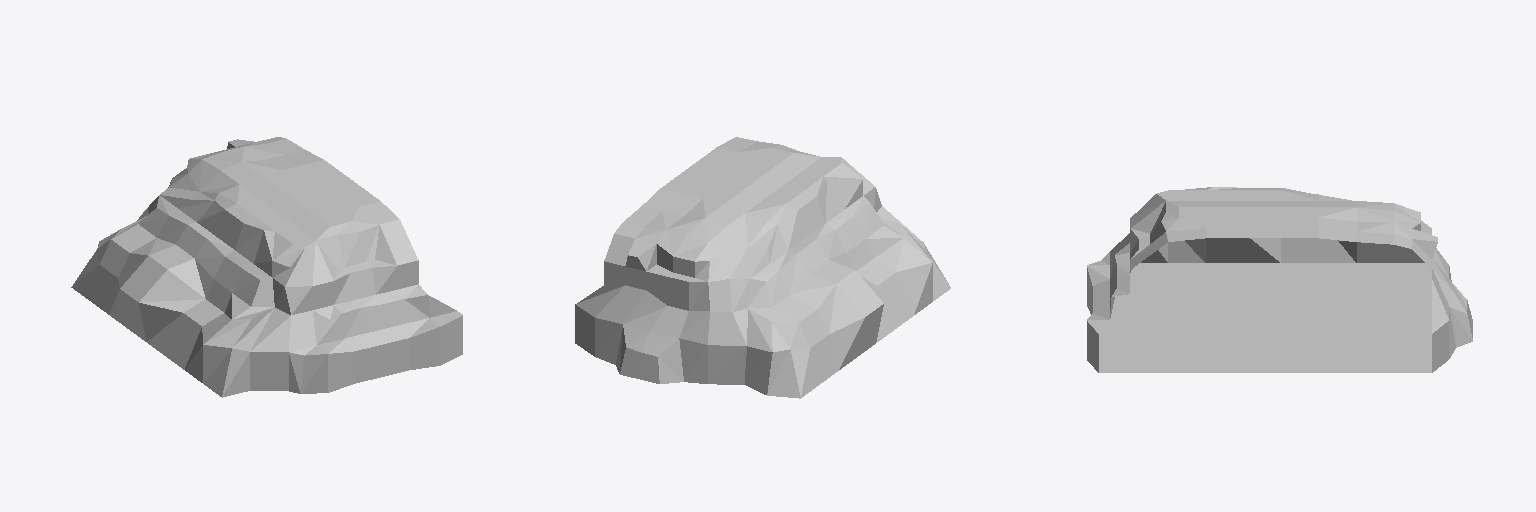
The model's file is mMountainNew.obj.
3 renders of one model, left to right at view 1: azimuth 30°, elevation 25°; view 2: azimuth 150°, elevation 25°; view 3: azimuth 270°, elevation 25°, orthographic.
Parts seen in each view (by area): view 1: mMountain02; view 2: mMountain02; view 3: mMountain02.
Part boxes in pixels (x1,y1,x2,y2): mMountain02: (71, 137, 462, 397); mMountain02: (575, 137, 950, 398); mMountain02: (1087, 187, 1472, 372).
Size of the model in its own units: 8.73 by 4.32 by 12.52.